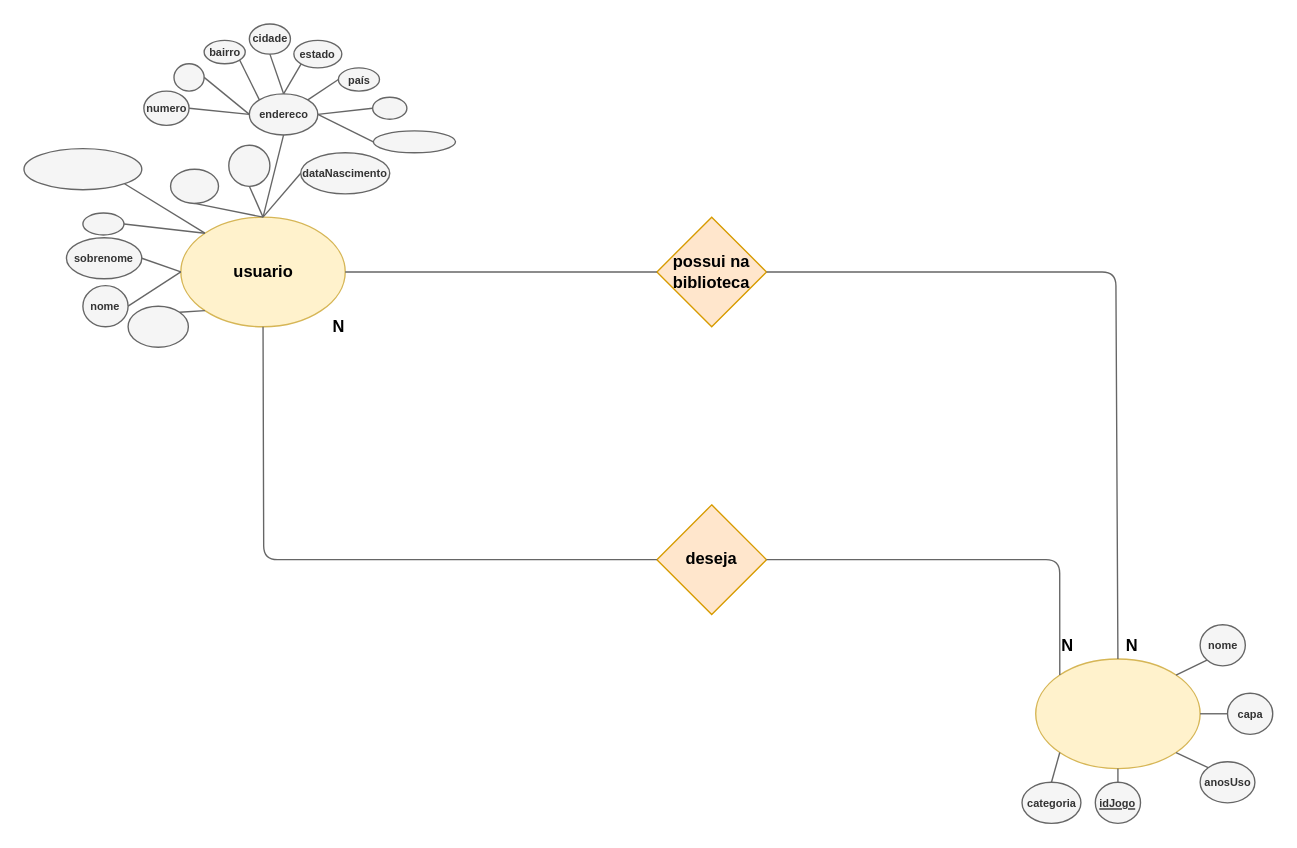
This 1297x848 diagram has some shape labels left out. The box of each missing label's shape, as (x1, y1, x2, y2) in pixels:
cep: (371, 96, 407, 119)
complemento: (372, 129, 456, 153)
cpf: (82, 212, 124, 235)
email: (169, 168, 219, 203)
idJogosDesejados: (23, 147, 142, 190)
idUsuario: (127, 305, 188, 347)
jogo: (1034, 658, 1200, 769)
rua: (173, 62, 204, 91)
senha: (227, 144, 270, 186)
